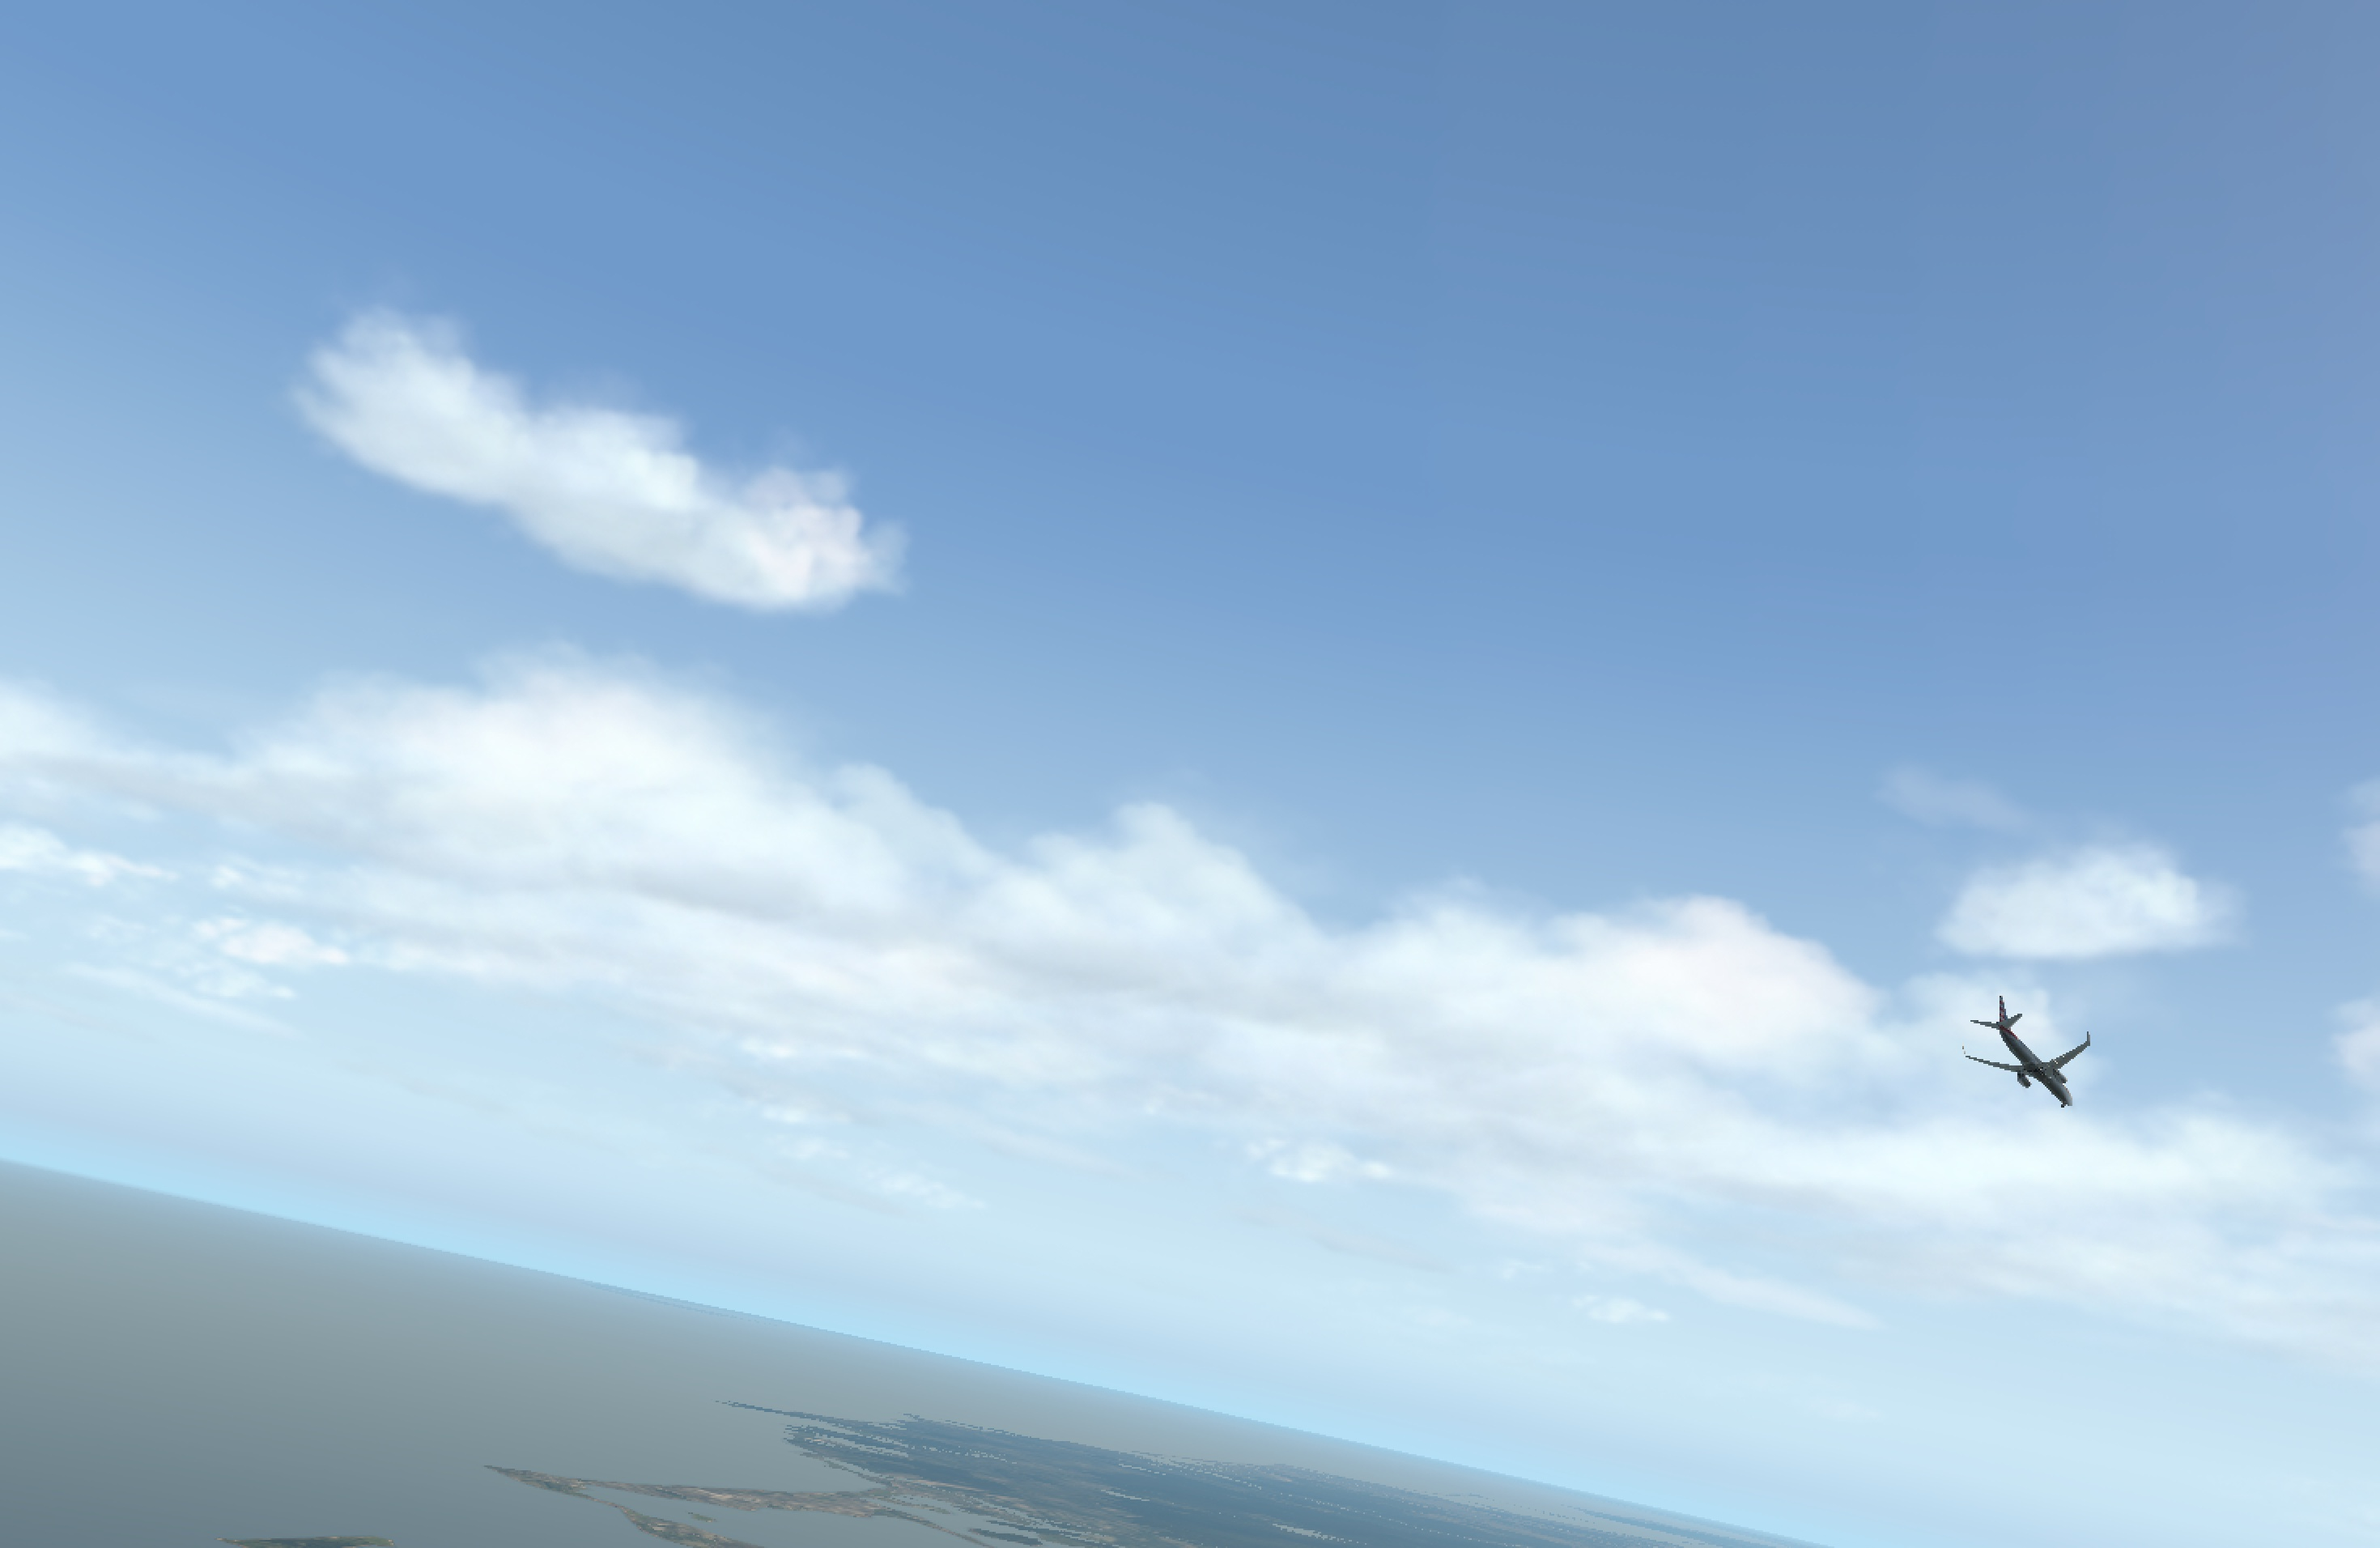aircraft: (1967, 1043, 2106, 1095)
